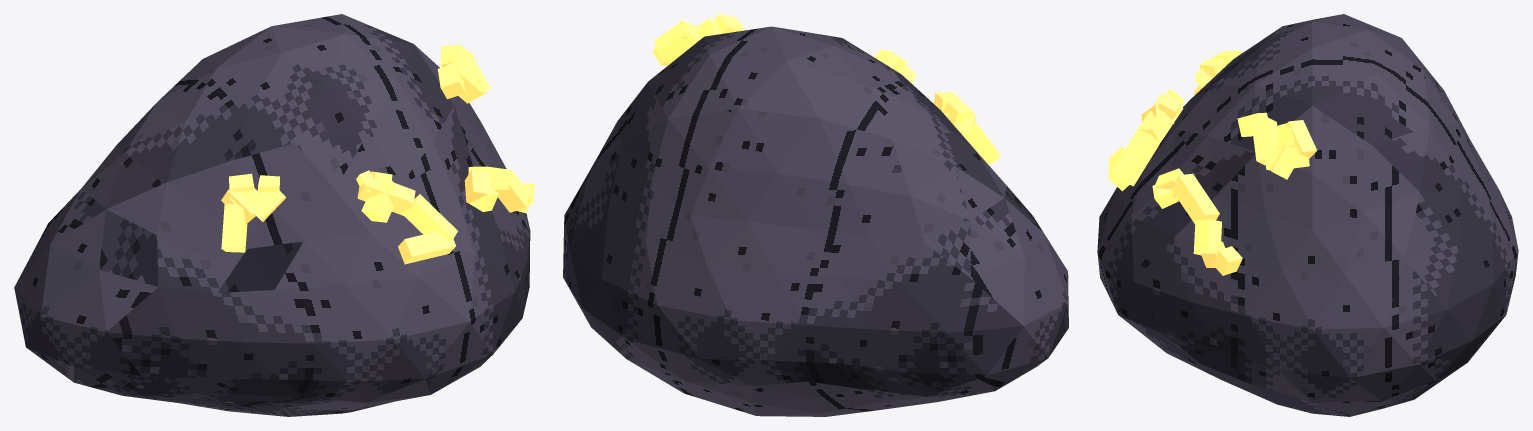
File: crater_rock.glb
The picture shows the model from 3 angles, left to right: view 1: azimuth 30°, elevation 25°; view 2: azimuth 150°, elevation 25°; view 3: azimuth 270°, elevation 25°; orthographic projection. The views are drawn at different scales.
Visible parts, largest first — view 1: Boulder, Veins; view 2: Boulder, Veins; view 3: Boulder, Veins.
Part boxes in pixels (bbox=[...]): Boulder: bbox=[14, 14, 530, 416]; Veins: bbox=[221, 44, 534, 264]; Boulder: bbox=[563, 26, 1068, 416]; Veins: bbox=[652, 14, 1000, 165]; Boulder: bbox=[1097, 14, 1518, 416]; Veins: bbox=[1109, 50, 1317, 275].
Size of the model in its own units: 3.38 by 2.49 by 2.67.
Materials: 2 (1 with a texture image).
